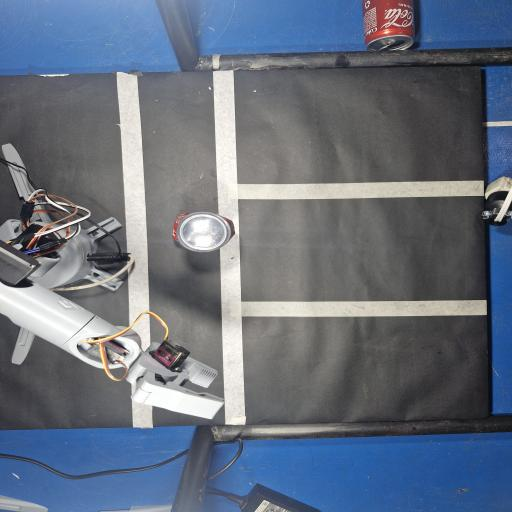lata_defectuoso: (173, 211, 235, 252)
